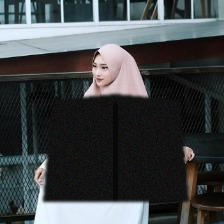Cadar_Niqab: (43, 41, 188, 201)
